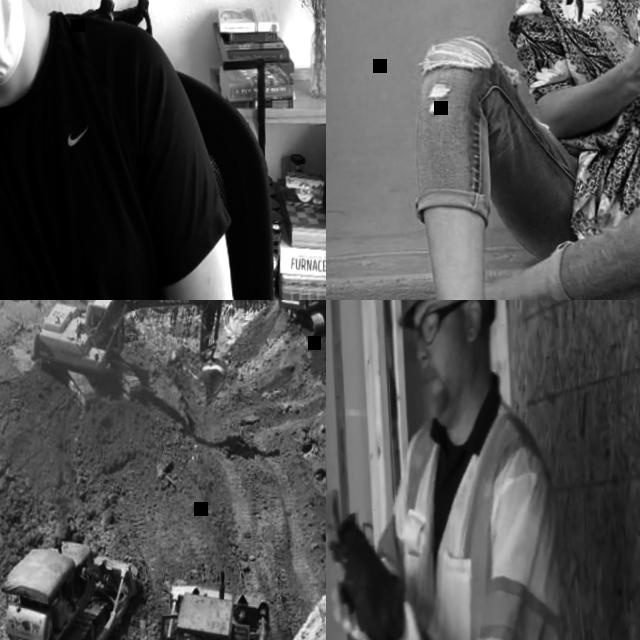Hardhat: (392, 300, 507, 330)
NO-Mask: (421, 333, 476, 424)
NO-Safety Vest: (0, 25, 167, 300), (542, 0, 640, 153)
Person: (328, 0, 640, 300), (326, 300, 566, 640), (0, 0, 237, 300)
Safety Vest: (367, 394, 565, 640)
machinery: (31, 300, 228, 411), (0, 528, 139, 640), (149, 567, 270, 640)
